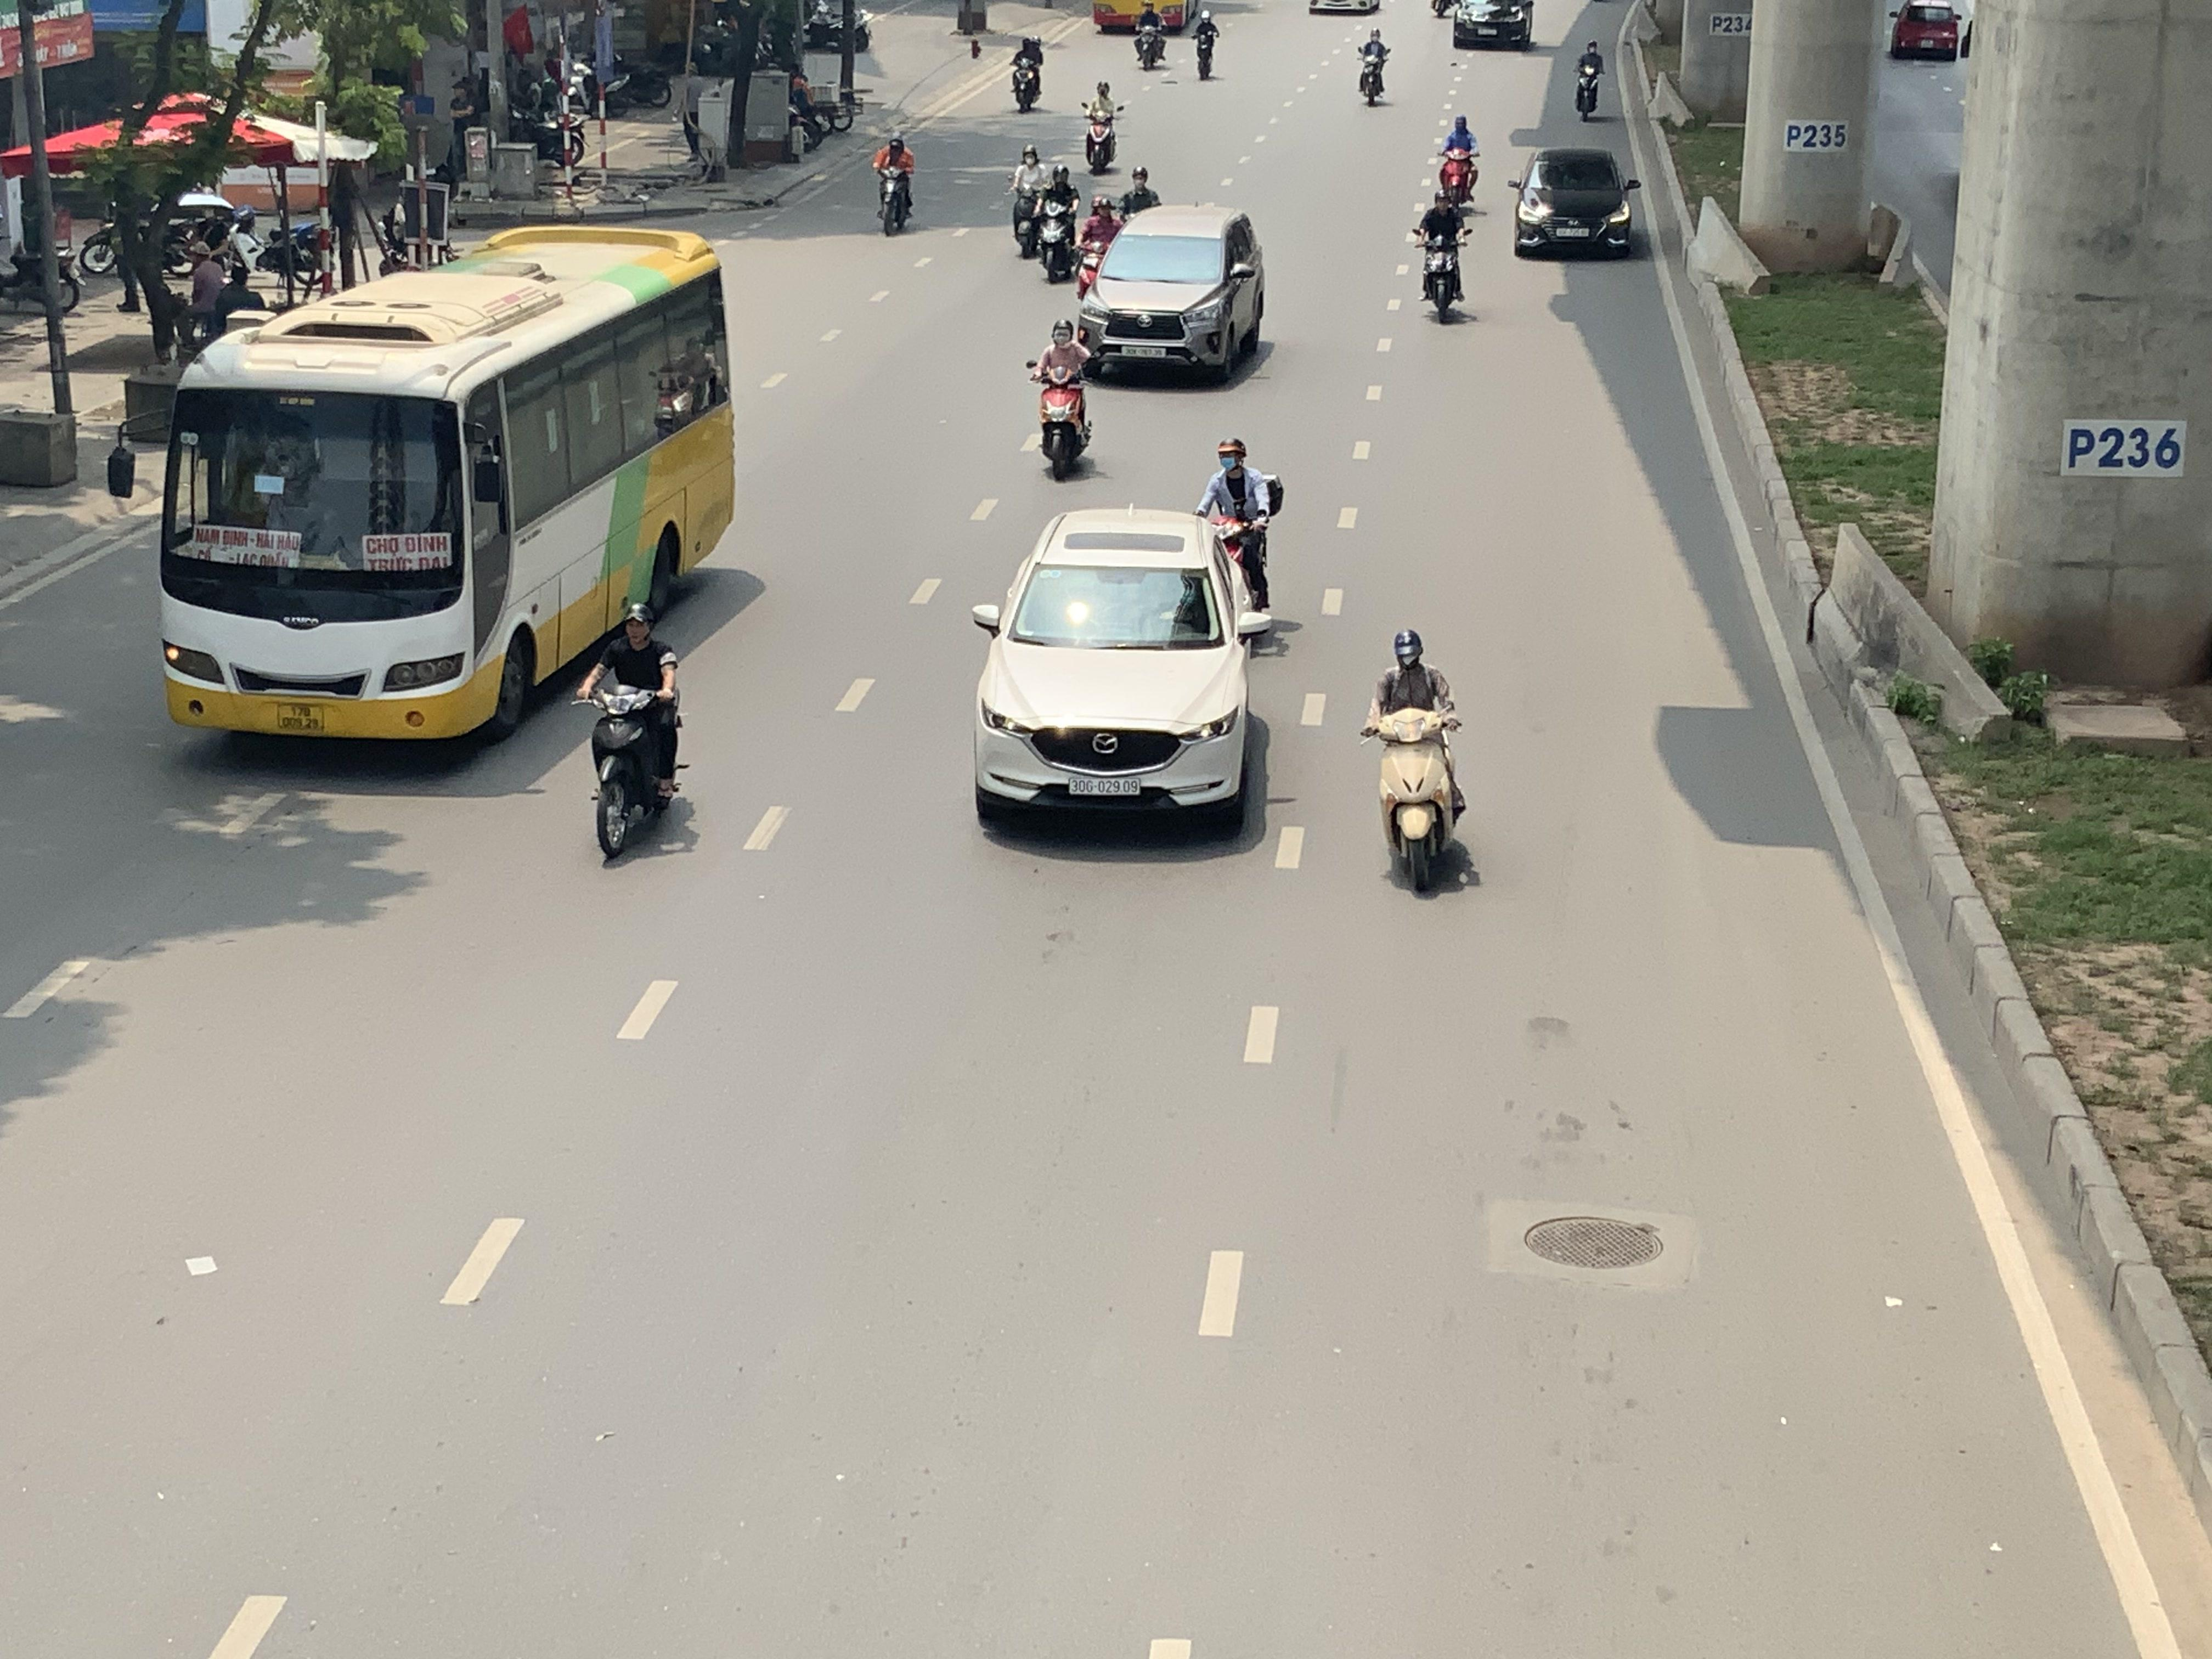BSD: (1068, 777, 1141, 796), (1122, 345, 1165, 359)
BSV: (277, 702, 324, 730)
bus: (155, 225, 737, 746)
car: (970, 505, 1285, 835), (1075, 206, 1266, 385), (1508, 146, 1642, 260), (1888, 0, 1973, 61), (1449, 0, 1538, 49)
motorbike: (578, 601, 690, 866), (1364, 629, 1470, 899), (1197, 436, 1280, 619), (1029, 315, 1097, 481), (1413, 183, 1472, 324), (1033, 159, 1083, 282), (1007, 143, 1050, 258), (873, 131, 916, 235), (1435, 113, 1482, 207), (1080, 78, 1123, 176), (1008, 30, 1047, 112), (1357, 24, 1392, 106), (1571, 38, 1604, 122), (1132, 2, 1167, 70), (1190, 3, 1219, 80)
